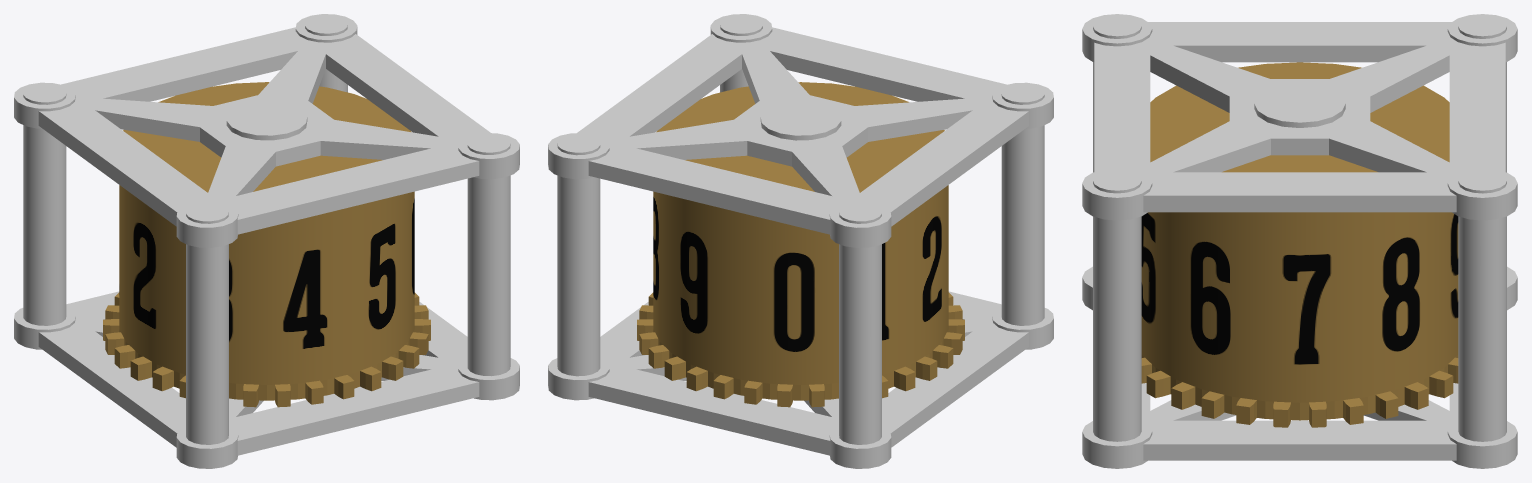
The model's file is AP_Creep_09.FBX.
3 views of the same model, side by side, from view 1: azimuth 30°, elevation 25°; view 2: azimuth 150°, elevation 25°; view 3: azimuth 270°, elevation 25° (orthographic). The views are drawn at different scales.
Visible parts, largest first — view 1: cylinder_main, plate_top, plate_bottom, cylinder_front_right, cylinder_front_left, cylinder_rear_left, cylinder_middle, cylinder_rear_right; view 2: cylinder_main, plate_top, plate_bottom, cylinder_rear_right, cylinder_rear_left, cylinder_front_left, cylinder_middle, cylinder_front_right; view 3: cylinder_main, plate_top, plate_bottom, cylinder_rear_right, cylinder_front_right, cylinder_middle, cylinder_front_left, cylinder_rear_left.
Boxes of the visible parts, <box> form: cylinder_main: <box>103,82,430,407</box>; plate_top: <box>14,14,519,247</box>; plate_bottom: <box>14,291,519,468</box>; cylinder_front_right: <box>467,134,510,376</box>; cylinder_front_left: <box>186,203,228,444</box>; cylinder_rear_left: <box>23,84,66,325</box>; cylinder_middle: <box>226,101,307,140</box>; cylinder_rear_right: <box>305,15,347,92</box>; cylinder_main: <box>637,82,964,407</box>; plate_top: <box>548,14,1053,247</box>; plate_bottom: <box>548,291,1053,468</box>; cylinder_rear_right: <box>557,134,600,376</box>; cylinder_rear_left: <box>839,203,881,444</box>; cylinder_front_left: <box>1001,84,1044,325</box>; cylinder_middle: <box>760,101,841,140</box>; cylinder_front_right: <box>720,15,762,92</box>; cylinder_main: <box>1141,62,1458,427</box>; plate_top: <box>1082,14,1517,220</box>; plate_bottom: <box>1082,266,1517,468</box>; cylinder_rear_right: <box>1458,170,1506,441</box>; cylinder_front_right: <box>1093,170,1141,441</box>; cylinder_middle: <box>1254,84,1345,127</box>; cylinder_front_left: <box>1093,15,1141,172</box>; cylinder_rear_left: <box>1458,15,1506,172</box>.
Bounding box in the file's own units: 191 × 134 × 191.
